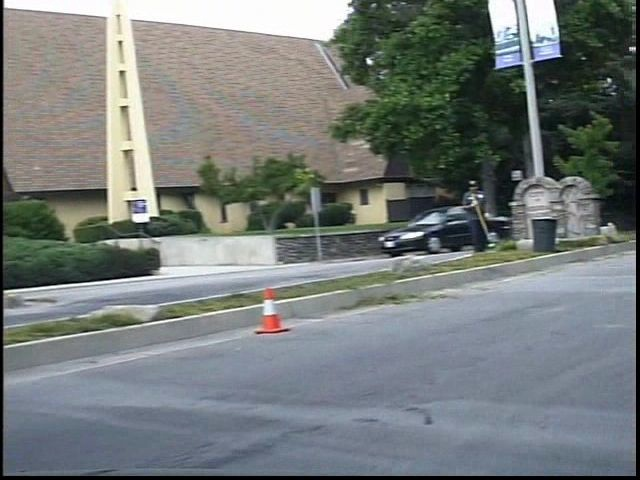person: (473, 175, 507, 256)
